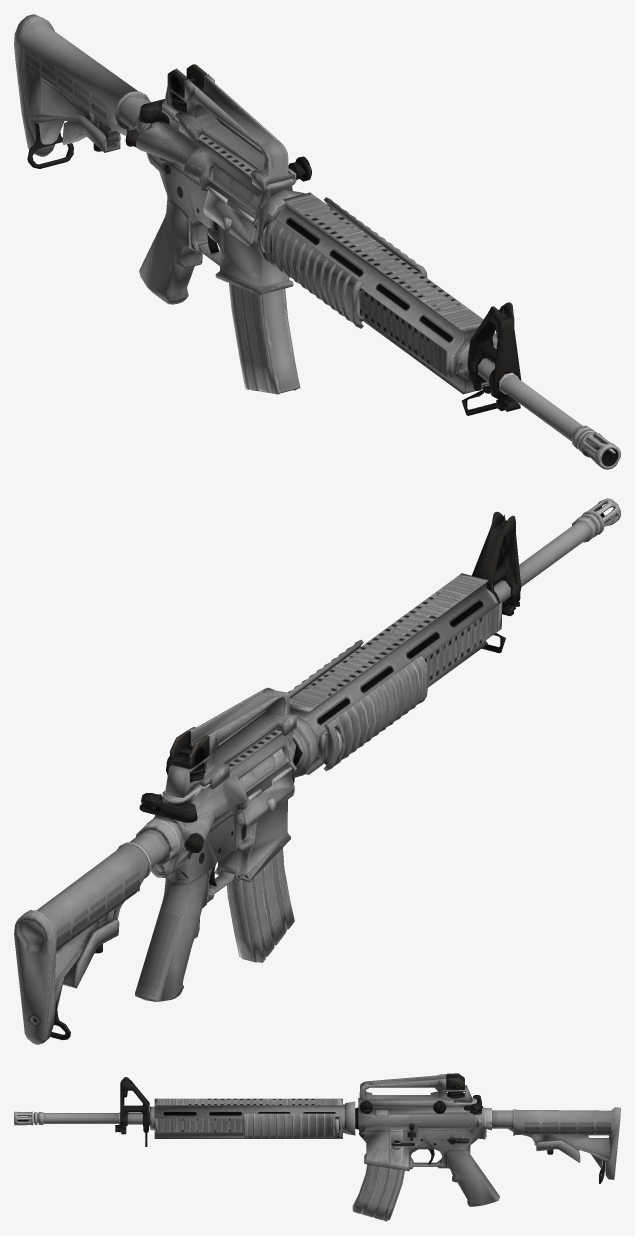
The model's file is Weapons_M16A4_3P_LOD0.glb.
3 views of the same model, one above another, from view 1: azimuth 30°, elevation 25°; view 2: azimuth 150°, elevation 25°; view 3: azimuth 270°, elevation 25° (orthographic). The views are drawn at different scales.
Visible parts, largest first — view 1: Hoodie; view 2: Hoodie; view 3: Hoodie.
Boxes of the visible parts, <box> form: Hoodie: <box>14,14,620,469</box>; Hoodie: <box>14,498,620,1044</box>; Hoodie: <box>14,1073,620,1221</box>.
Bounding box in the file's own units: 0.0807 × 0.2628 × 1.02.
Materials: 1 (1 with a texture image).
